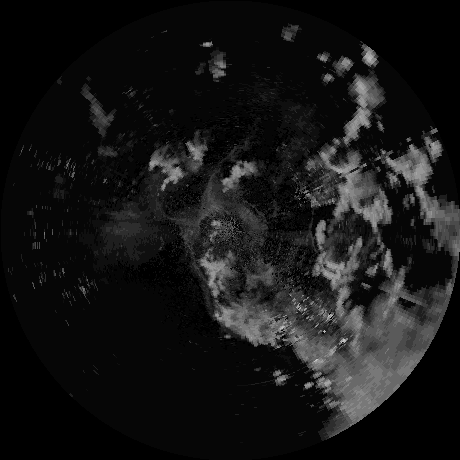frontgust: (305, 212, 320, 252), (190, 258, 208, 278)
